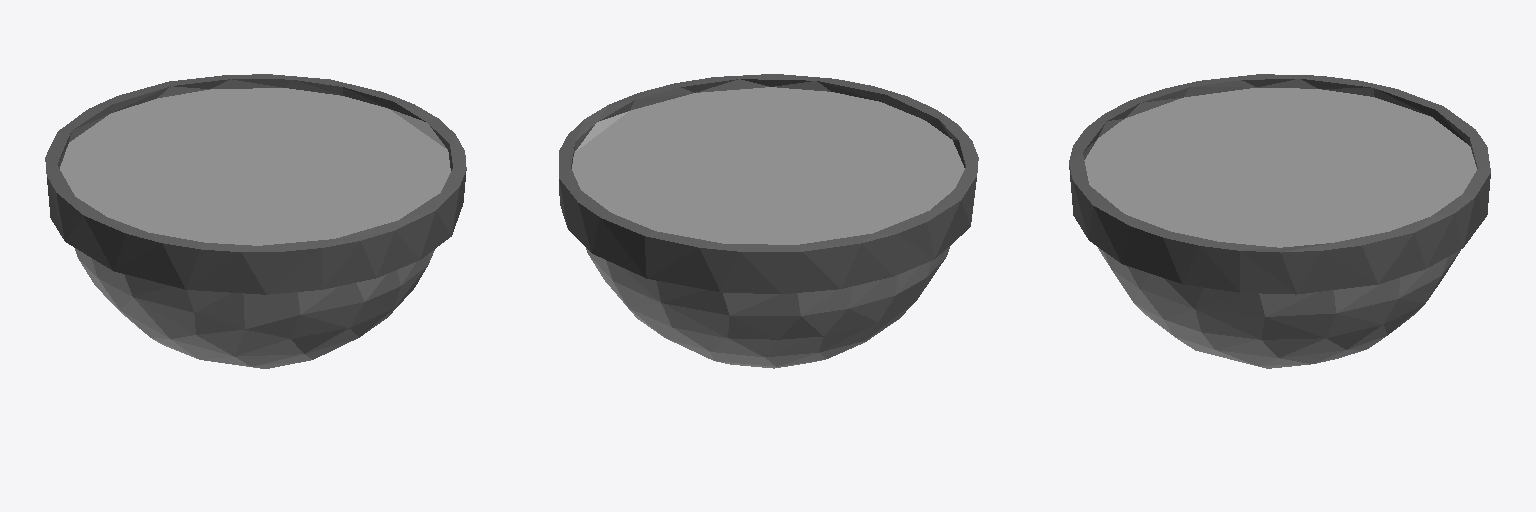
Rendered from stage_base.obj.
3 views of the same model, side by side, from view 1: azimuth 30°, elevation 25°; view 2: azimuth 150°, elevation 25°; view 3: azimuth 270°, elevation 25° (orthographic).
Visible parts, largest first — view 1: Sphere; view 2: Sphere; view 3: Sphere.
Part boxes in pixels (x1,y1,x2,y2): Sphere: (45,74,466,368); Sphere: (559,74,978,368); Sphere: (1069,74,1490,368).
Size of the model in its own units: 8.63 by 4.24 by 8.63.